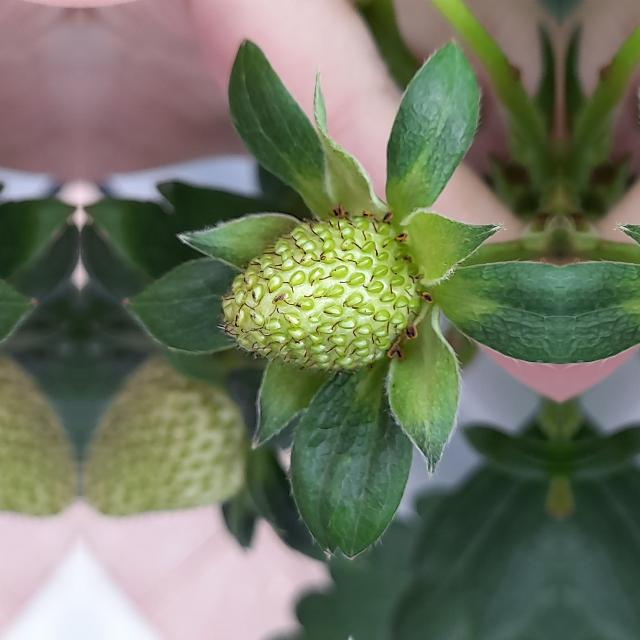Health_25: (216, 207, 424, 375)
